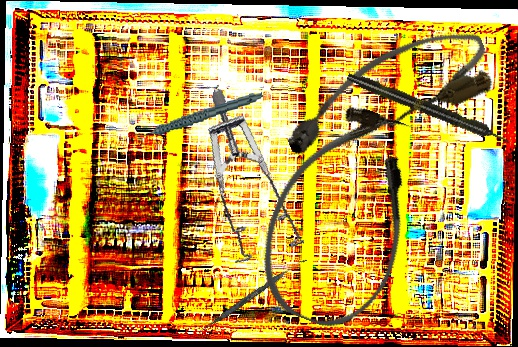Cannula: (241, 91, 443, 342), (270, 16, 501, 169)
Handpiece: (345, 69, 512, 149), (131, 91, 266, 139)
Spatula Surgical: (198, 254, 307, 337)
Speculum: (174, 86, 336, 278)
